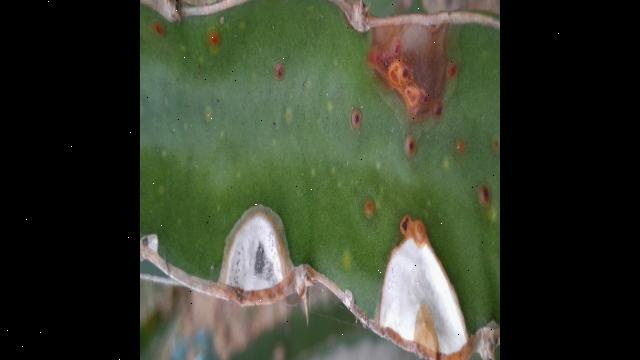stemcanker: (469, 175, 494, 213), (357, 192, 382, 224), (205, 20, 227, 56), (399, 131, 422, 163), (271, 55, 290, 88), (349, 104, 368, 132)
